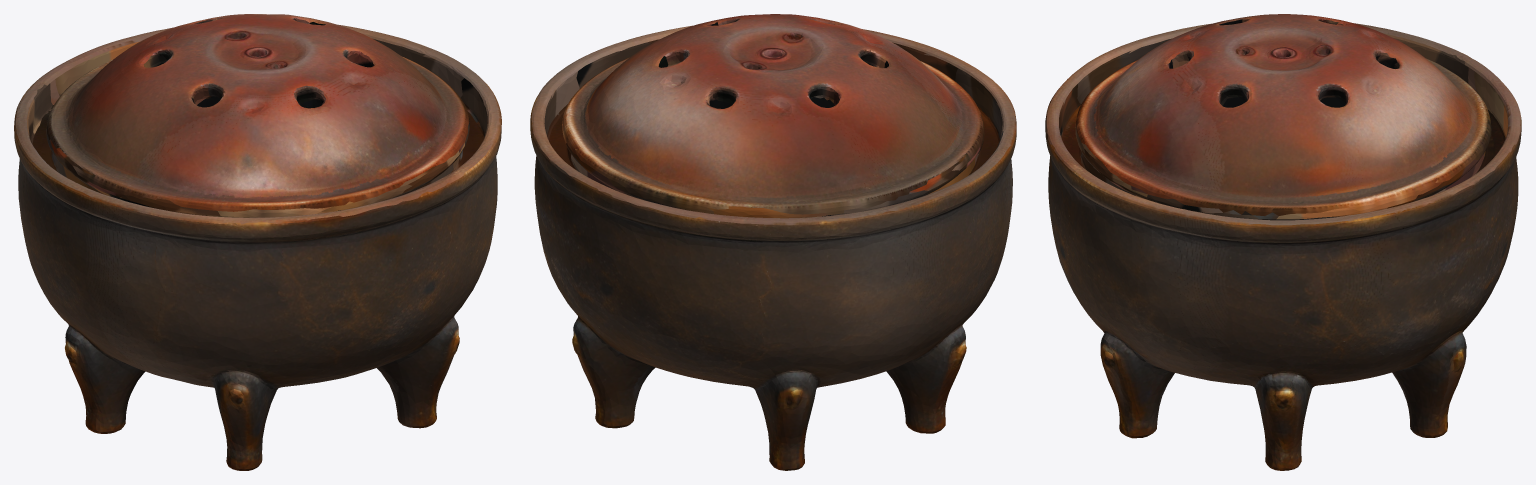
Rendered from traveler_env_coast_castle_isawa_incense_00001_.glb.
3 renders of one model, left to right at view 1: azimuth 30°, elevation 25°; view 2: azimuth 150°, elevation 25°; view 3: azimuth 270°, elevation 25°, orthographic.
Parts seen in each view (by area): view 1: temp_mesh.ply; view 2: temp_mesh.ply; view 3: temp_mesh.ply.
Boxes of the visible parts, x1=… form: temp_mesh.ply: x1=14, y1=14, x2=501, y2=470; temp_mesh.ply: x1=530, y1=14, x2=1016, y2=470; temp_mesh.ply: x1=1045, y1=14, x2=1521, y2=470.
Size of the model in its own units: 1.67 by 1.27 by 1.61.
1 material, 1 textured.
